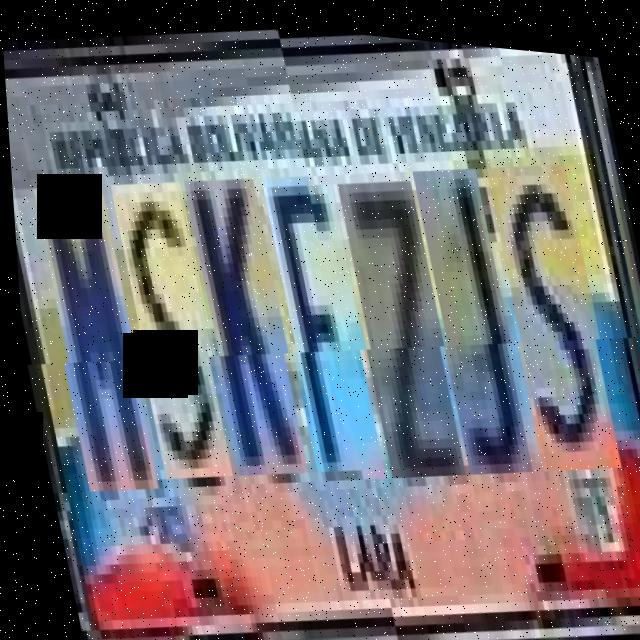F: (261, 172, 387, 481)
J: (411, 154, 534, 470)
K: (183, 177, 309, 486)
M: (32, 188, 159, 505)
S: (484, 147, 621, 466), (110, 182, 235, 490)
Z: (334, 167, 465, 476)
